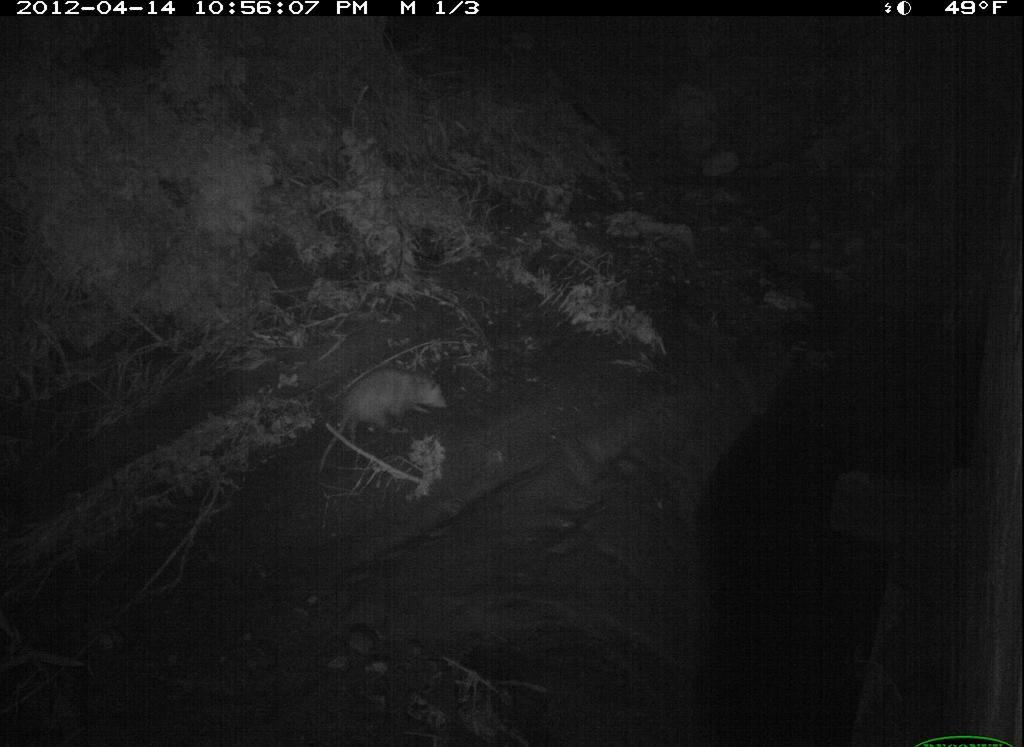opossum: (312, 361, 457, 481)
